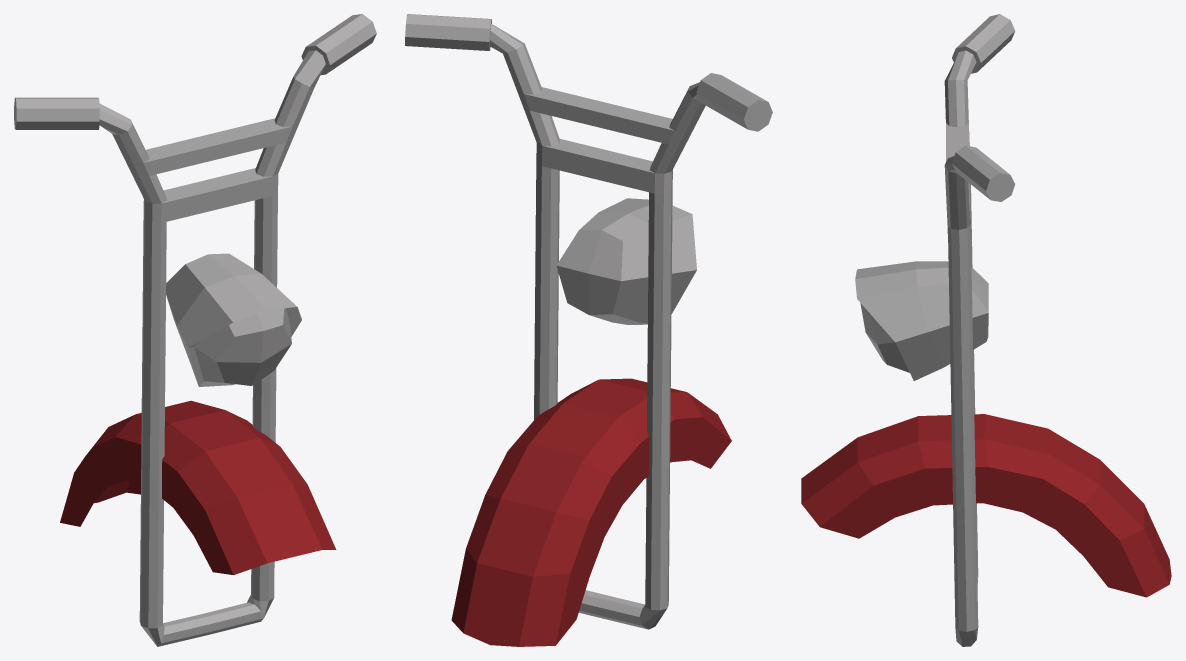
Rendered from ProtoBichaelHandlebars.glb.
The picture shows the model from 3 angles, left to right: view 1: azimuth 30°, elevation 25°; view 2: azimuth 150°, elevation 25°; view 3: azimuth 270°, elevation 25°; orthographic projection. The views are drawn at different scales.
Visible parts, largest first — view 1: Bichael; view 2: Bichael; view 3: Bichael.
Boxes of the visible parts, x1,y1,x2,y2 form: Bichael: [14, 14, 376, 646]; Bichael: [405, 14, 772, 646]; Bichael: [801, 14, 1171, 646].
Size of the model in its own units: 2.03 by 3.04 by 1.92.
1 material, 1 textured.
